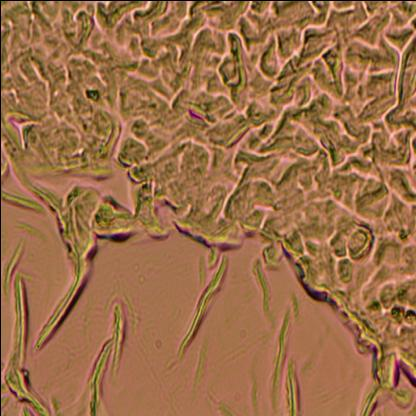Stage I: (0, 0, 416, 242), (346, 0, 412, 387)
